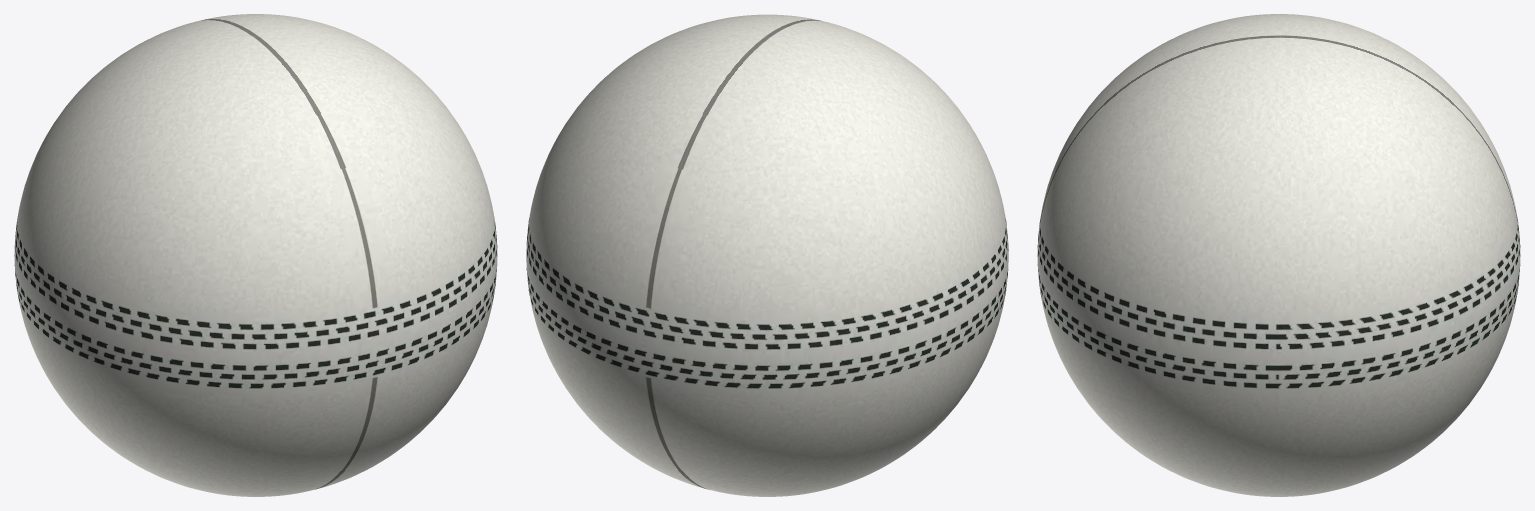
File: ball-cricket-white.glb
The picture shows the model from 3 angles, left to right: view 1: azimuth 30°, elevation 25°; view 2: azimuth 150°, elevation 25°; view 3: azimuth 270°, elevation 25°; orthographic projection.
Parts seen in each view (by area): view 1: Ball; view 2: Ball; view 3: Ball.
Boxes of the visible parts, box(x1,y1,x2,y2) form: Ball: box(14, 14, 497, 496); Ball: box(526, 14, 1008, 496); Ball: box(1037, 14, 1520, 496).
Size of the model in its own units: 0.072 by 0.072 by 0.072.
2 materials, 2 textured.
